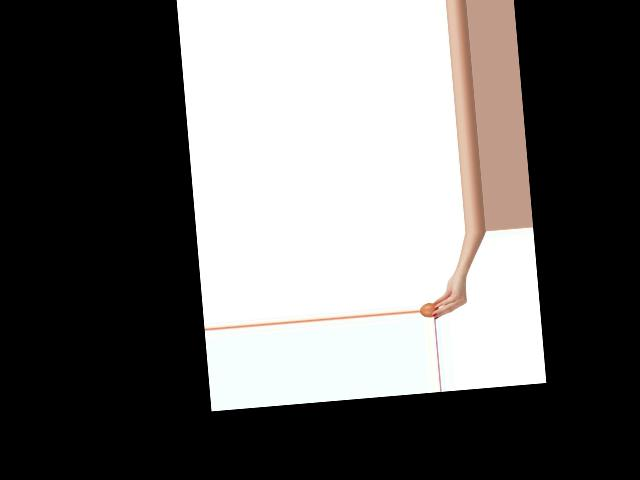egg: (420, 302, 438, 317)
